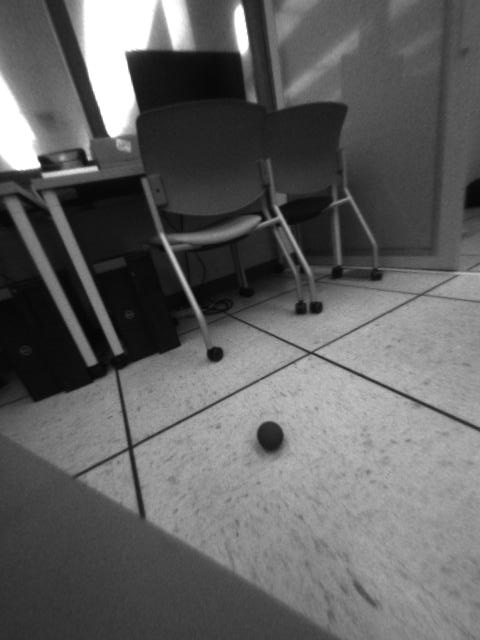dogtoy: (250, 409, 292, 458)
